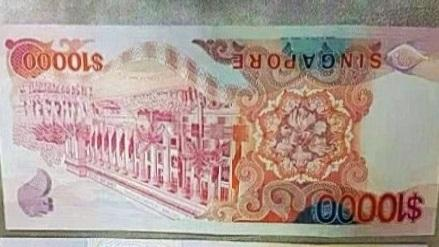10000SingaporeDollar: (6, 28, 432, 229)
